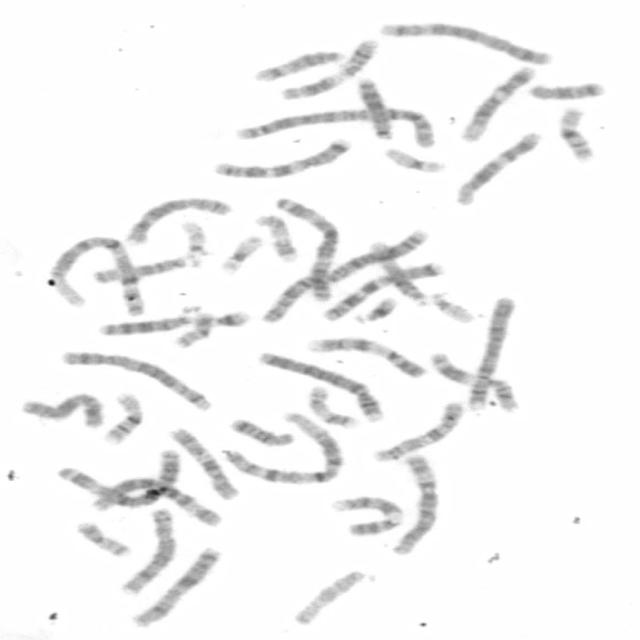A1: (218, 409, 347, 486), (45, 232, 149, 316)
A2: (255, 226, 435, 324), (227, 104, 443, 148)
A3: (52, 447, 184, 512), (269, 192, 343, 302)
B4: (253, 348, 385, 424), (461, 293, 520, 414)
B5: (56, 347, 214, 413), (375, 18, 556, 66)
C10: (366, 398, 466, 464), (165, 424, 242, 501)
C11: (273, 34, 383, 103), (424, 348, 521, 413)
C12: (450, 128, 543, 208), (456, 62, 540, 143)
C6: (87, 475, 224, 531), (385, 451, 442, 557)
C7: (318, 260, 446, 322), (206, 134, 353, 180)
C8: (120, 194, 235, 245), (117, 506, 179, 596)
C9: (300, 333, 430, 380), (327, 492, 405, 538)
D13: (90, 310, 220, 337), (353, 74, 394, 140)
D14: (364, 238, 432, 307), (247, 47, 348, 84)
D15: (288, 567, 378, 628), (86, 251, 202, 285)
E16: (97, 389, 147, 446), (552, 103, 598, 163)
E17: (250, 210, 302, 264), (302, 384, 360, 429)
E18: (225, 415, 297, 448), (526, 79, 604, 101)
F19: (215, 232, 265, 274), (380, 144, 448, 174)
F20: (70, 517, 136, 559), (169, 310, 217, 350)
G21: (350, 293, 400, 324), (205, 307, 251, 328)
G22: (424, 288, 478, 325), (178, 220, 210, 258)
X: (127, 545, 224, 628), (16, 389, 108, 430)
